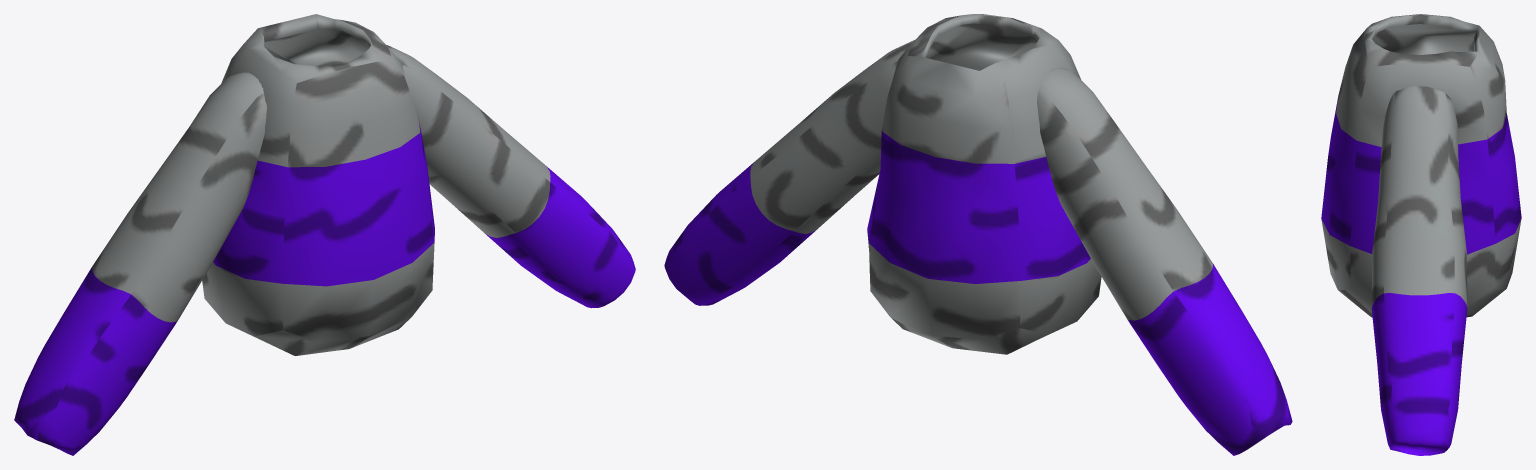
The model's file is item-suit-wet.glb.
3 views of the same model, side by side, from view 1: azimuth 30°, elevation 25°; view 2: azimuth 150°, elevation 25°; view 3: azimuth 270°, elevation 25° (orthographic). The views are drawn at different scales.
Size of the model in its own units: 0.1782 by 0.0977 by 0.0556.
Materials: 2 (2 with a texture image).
